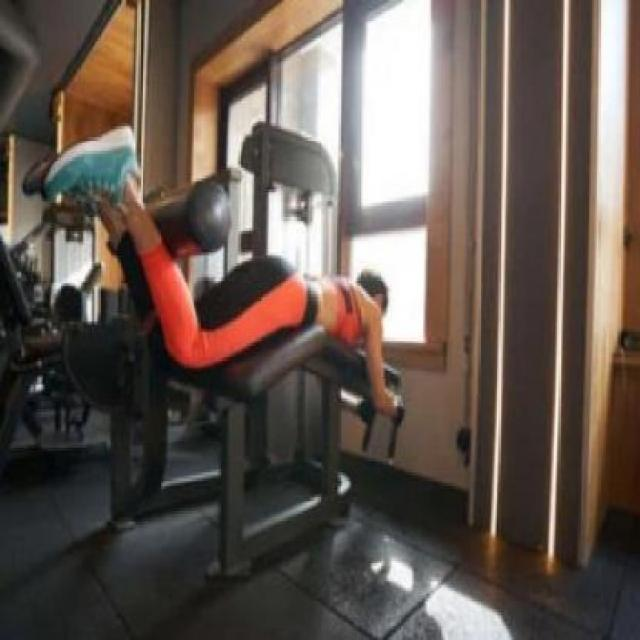reg curl machine: (23, 0, 409, 588)
